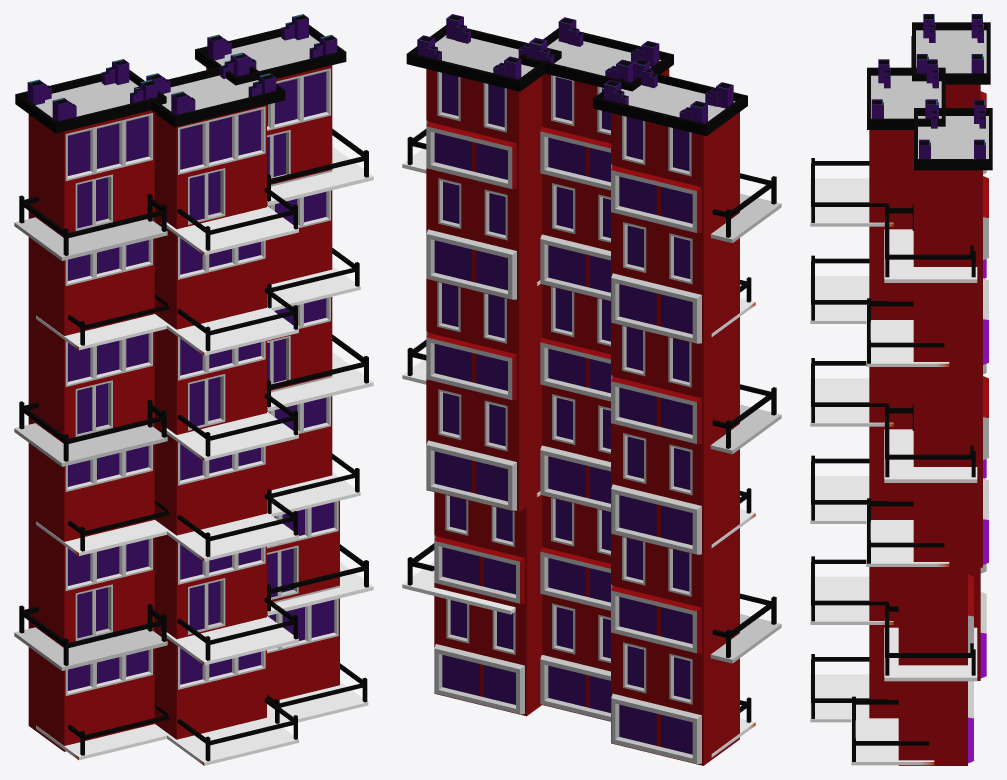
File: SDG_BigB01.fbx
3 renders of one model, left to right at view 1: azimuth 30°, elevation 25°; view 2: azimuth 150°, elevation 25°; view 3: azimuth 270°, elevation 25°, orthographic. The views are drawn at different scales.
Visible parts, largest first — view 1: Box439; view 2: Box439; view 3: Box439.
Part boxes in pixels (box(x1,y1,x2,y2)): Box439: box(14, 14, 373, 765); Box439: box(402, 14, 781, 765); Box439: box(810, 14, 992, 765).
Bounding box in the file's own units: 190 × 367 × 97.19.
